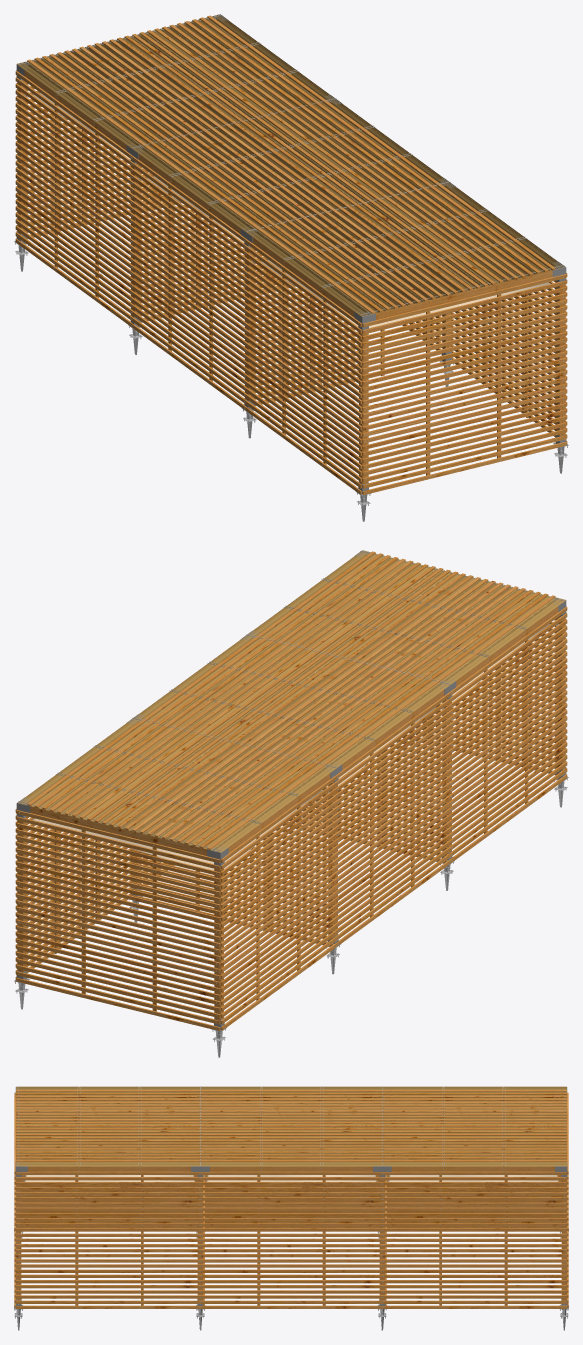
Rendered from glb-auto.glb.
The picture shows the model from 3 angles, top to bottom: view 1: azimuth 30°, elevation 25°; view 2: azimuth 150°, elevation 25°; view 3: azimuth 270°, elevation 25°; orthographic projection. The views are drawn at different scales.
Visible parts, largest first — view 1: 3x3_OPT_RideauBriseVue_4, 3x9_OPT_RideauBriseVue_3, 3x3_OPT_RideauBriseVue_1, 3x9_OPT_ToitureBriseSoleil_2, 3x3_OPT_ToitureBriseSoleil_1, 3x3_OPT_PaillassonCamarguais_1, 3x9_OPT_PaillassonCamarguais_3, 3x6_OPT_PaillassonCamarguais_2, 3x6_OPT_ToitureBriseSoleil_2, 3x6_OPT_RideauBriseVue_2, 3x9_OPT_RideauBriseVue_2, 3x6_OPT_RideauBriseVue_1 (+12 smaller); view 2: 3x9_OPT_RideauBriseVue_4, 3x9_OPT_RideauBriseVue_3, 3x6_OPT_RideauBriseVue_1, 3x9_OPT_ToitureBriseSoleil_2, 3x6_OPT_RideauBriseVue_2, 3x3_OPT_ToitureBriseSoleil_1, 3x3_OPT_PaillassonCamarguais_1, 3x9_OPT_PaillassonCamarguais_3, 3x6_OPT_PaillassonCamarguais_2, 3x6_OPT_ToitureBriseSoleil_2, 3x3_OPT_RideauBriseVue_1, 3x9_OPT_RideauBriseVue_2 (+10 smaller); view 3: 3x9_OPT_RideauBriseVue_5, 3x3_OPT_RideauBriseVue_3, 3x9_OPT_ToitureBriseSoleil_2, 3x9_OPT_RideauBriseVue_6, 3x6_OPT_RideauBriseVue_5, 3x3_OPT_ToitureBriseSoleil_1, 3x6_OPT_RideauBriseVue_4, 3x6_OPT_ToitureBriseSoleil_2, 3x9_OPT_PaillassonCamarguais_3, 3x6_OPT_PaillassonCamarguais_2, 3x3_OPT_PaillassonCamarguais_1, 3x9_OPT_ToitureBriseSoleil_1.001 (+11 smaller).
Boxes of the visible parts, x1,y1,x2,y2 form: 3x3_OPT_RideauBriseVue_4: (362, 274, 566, 494); 3x9_OPT_RideauBriseVue_3: (15, 71, 132, 324); 3x3_OPT_RideauBriseVue_1: (243, 237, 362, 494); 3x9_OPT_ToitureBriseSoleil_2: (27, 15, 325, 145); 3x3_OPT_ToitureBriseSoleil_1: (255, 182, 555, 313); 3x3_OPT_PaillassonCamarguais_1: (245, 181, 564, 316); 3x9_OPT_PaillassonCamarguais_3: (17, 14, 336, 148); 3x6_OPT_PaillassonCamarguais_2: (130, 97, 448, 231); 3x6_OPT_ToitureBriseSoleil_2: (141, 99, 437, 227); 3x6_OPT_RideauBriseVue_2: (129, 155, 246, 408); 3x9_OPT_RideauBriseVue_2: (131, 155, 246, 408); 3x6_OPT_RideauBriseVue_1: (245, 240, 362, 494); 3x9_OPT_RideauBriseVue_4: (16, 810, 220, 1030); 3x9_OPT_RideauBriseVue_3: (220, 776, 337, 1030); 3x6_OPT_RideauBriseVue_1: (450, 608, 567, 862); 3x9_OPT_ToitureBriseSoleil_2: (27, 719, 325, 849); 3x6_OPT_RideauBriseVue_2: (334, 692, 451, 945); 3x3_OPT_ToitureBriseSoleil_1: (255, 551, 555, 682); 3x3_OPT_PaillassonCamarguais_1: (246, 550, 565, 685); 3x9_OPT_PaillassonCamarguais_3: (17, 717, 334, 852); 3x6_OPT_PaillassonCamarguais_2: (132, 634, 450, 769); 3x6_OPT_ToitureBriseSoleil_2: (143, 636, 438, 765); 3x3_OPT_RideauBriseVue_1: (448, 607, 567, 861); 3x9_OPT_RideauBriseVue_2: (336, 693, 451, 944); 3x9_OPT_RideauBriseVue_5: (382, 1171, 566, 1308); 3x3_OPT_RideauBriseVue_3: (16, 1171, 203, 1308); 3x9_OPT_ToitureBriseSoleil_2: (382, 1090, 566, 1162); 3x9_OPT_RideauBriseVue_6: (200, 1171, 382, 1308); 3x6_OPT_RideauBriseVue_5: (16, 1172, 200, 1308); 3x3_OPT_ToitureBriseSoleil_1: (16, 1090, 203, 1161); 3x6_OPT_RideauBriseVue_4: (200, 1172, 385, 1308); 3x6_OPT_ToitureBriseSoleil_2: (200, 1090, 385, 1161); 3x9_OPT_PaillassonCamarguais_3: (380, 1086, 566, 1166); 3x6_OPT_PaillassonCamarguais_2: (198, 1086, 385, 1166); 3x3_OPT_PaillassonCamarguais_1: (16, 1086, 202, 1166); 3x9_OPT_ToitureBriseSoleil_1.001: (200, 1090, 382, 1162).
Bounding box in the file's own units: 3.06 × 2.94 × 8.88.
5 materials, 1 textured.
